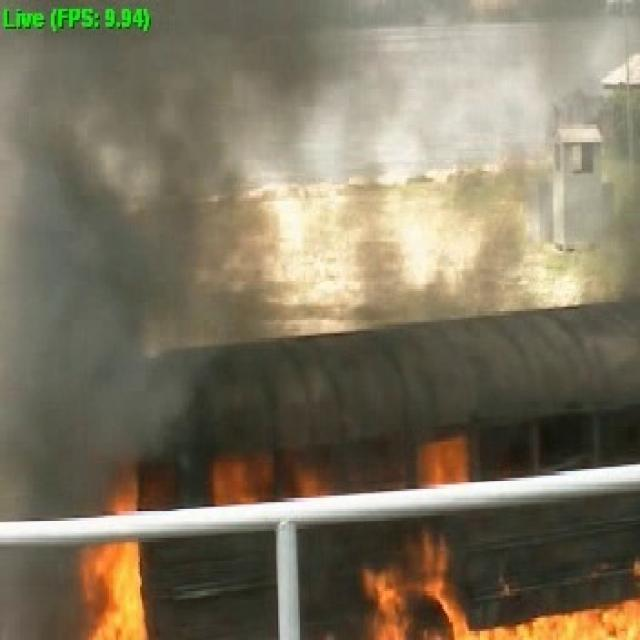fire: (451, 602, 639, 640), (90, 551, 142, 640)
smoke: (13, 45, 159, 434)
